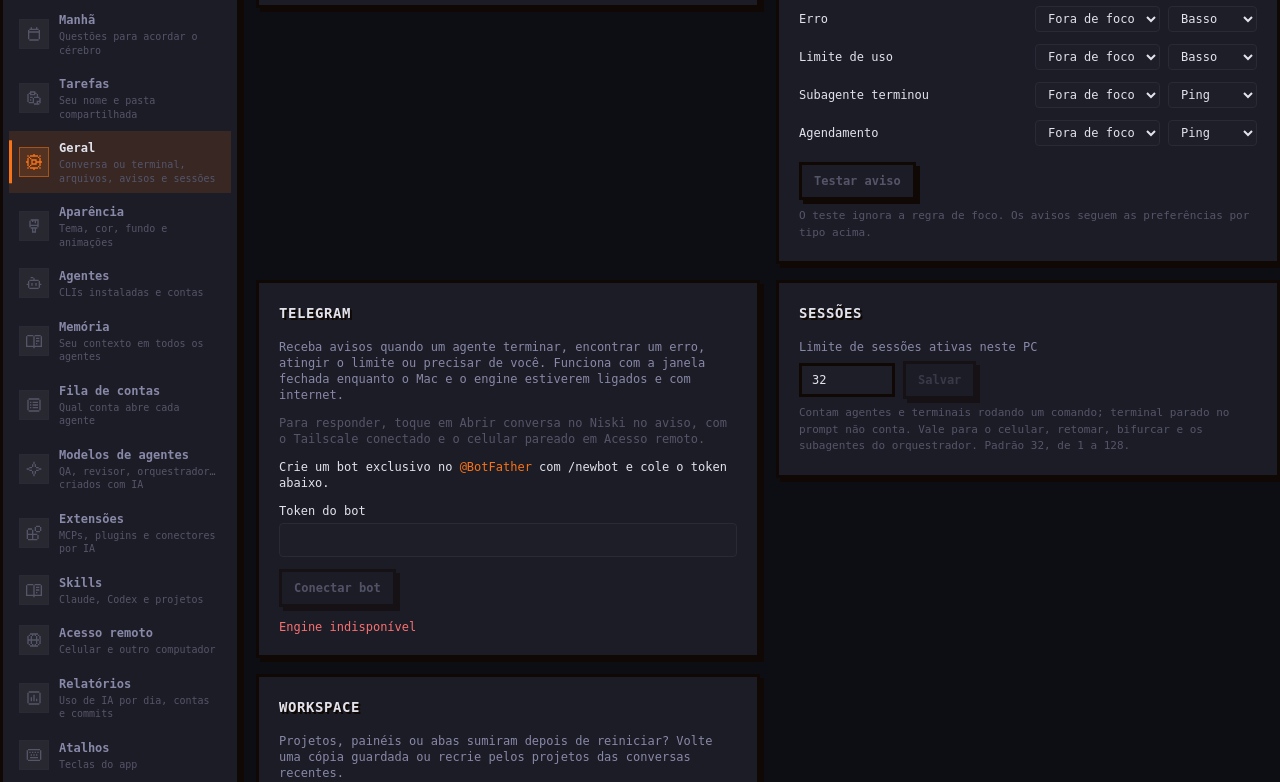
Test: mostra erro ao salvar Sessões sem perder o valor digitado
(page scrolled)
Replace the text in the number field with "24". click: (847, 380)
box: [799,363,895,397]
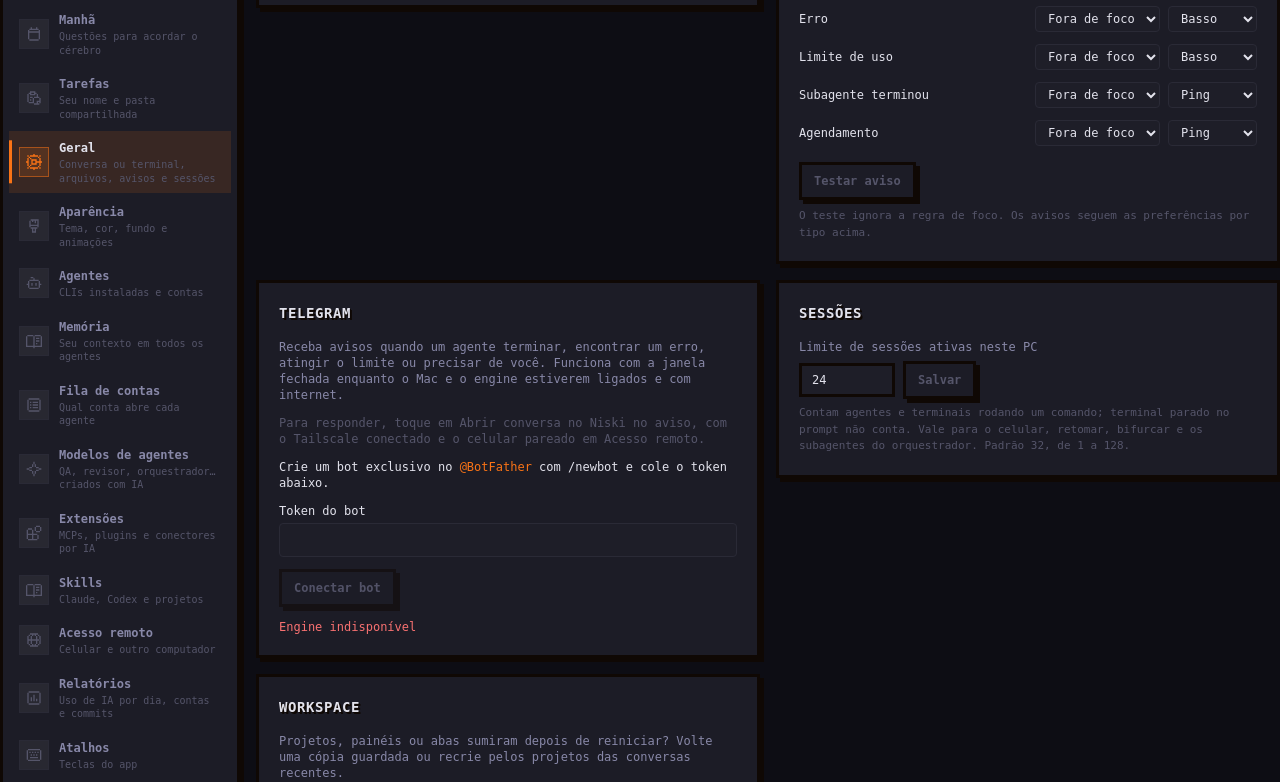
Press Enter in the number field, box [799,363,895,397]
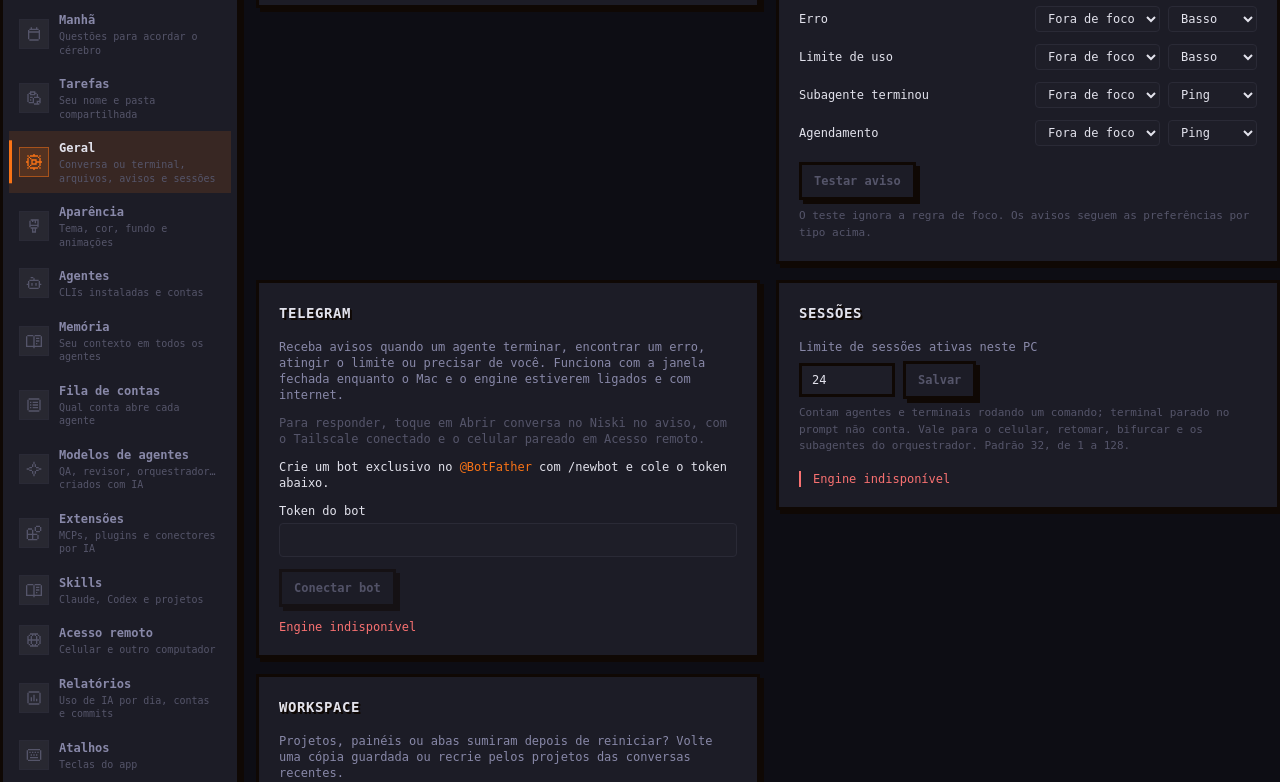
Now the button "Salvar" is enabled, box [903,361,976,399]
Now the message "Engine indisponível" below "Limite de sessões ativas neste PC" is shown, box [813,472,950,486]
